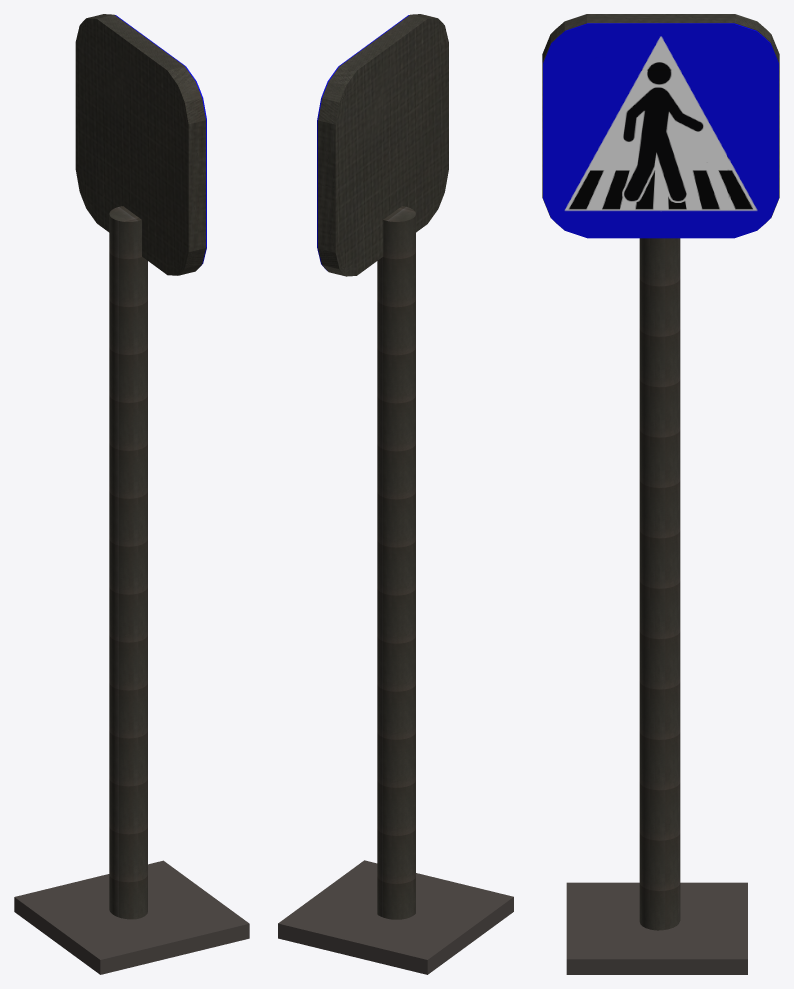
File: sign_pedestrian.obj
3 views of the same model, side by side, from view 1: azimuth 30°, elevation 25°; view 2: azimuth 150°, elevation 25°; view 3: azimuth 270°, elevation 25° (orthographic). The views are drawn at different scales.
Parts seen in each view (by area): view 1: SketchUp.001_ID10.000, Cube_Cube.001, SketchUp_ID2.000; view 2: SketchUp.001_ID10.000, Cube_Cube.001, SketchUp_ID2.000; view 3: Plane_Plane.001, SketchUp.001_ID10.000, Cube.001_Cube.002, SketchUp_ID2.000, Cube_Cube.001.
Boxes of the visible parts, x1,y1,x2,y2 form: SketchUp.001_ID10.000: (109, 206, 147, 919); Cube_Cube.001: (75, 14, 205, 275); SketchUp_ID2.000: (14, 860, 249, 974); SketchUp.001_ID10.000: (377, 206, 415, 919); Cube_Cube.001: (318, 14, 448, 276); SketchUp_ID2.000: (278, 860, 513, 974); Plane_Plane.001: (564, 36, 757, 211); SketchUp.001_ID10.000: (639, 238, 680, 930); Cube.001_Cube.002: (543, 23, 778, 238); SketchUp_ID2.000: (566, 882, 747, 974); Cube_Cube.001: (542, 14, 779, 230).
Bounding box in the file's own units: 0.0349 × 0.1966 × 0.0458.
Materials: 4 (4 with a texture image).
